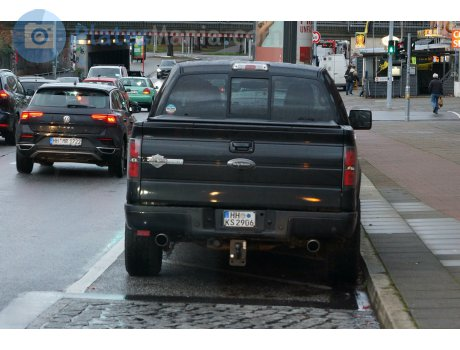License Plates: (225, 211, 254, 225)
